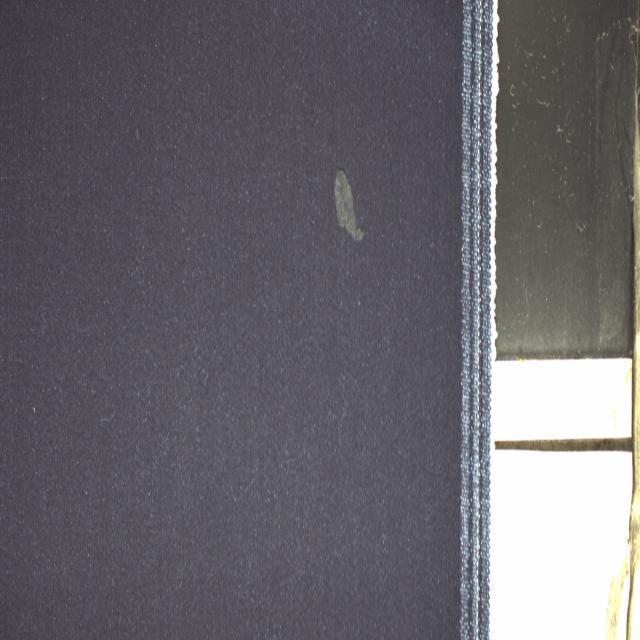Line: (482, 0, 496, 640), (460, 0, 471, 640), (472, 0, 483, 640)
Stain: (335, 170, 365, 241)
